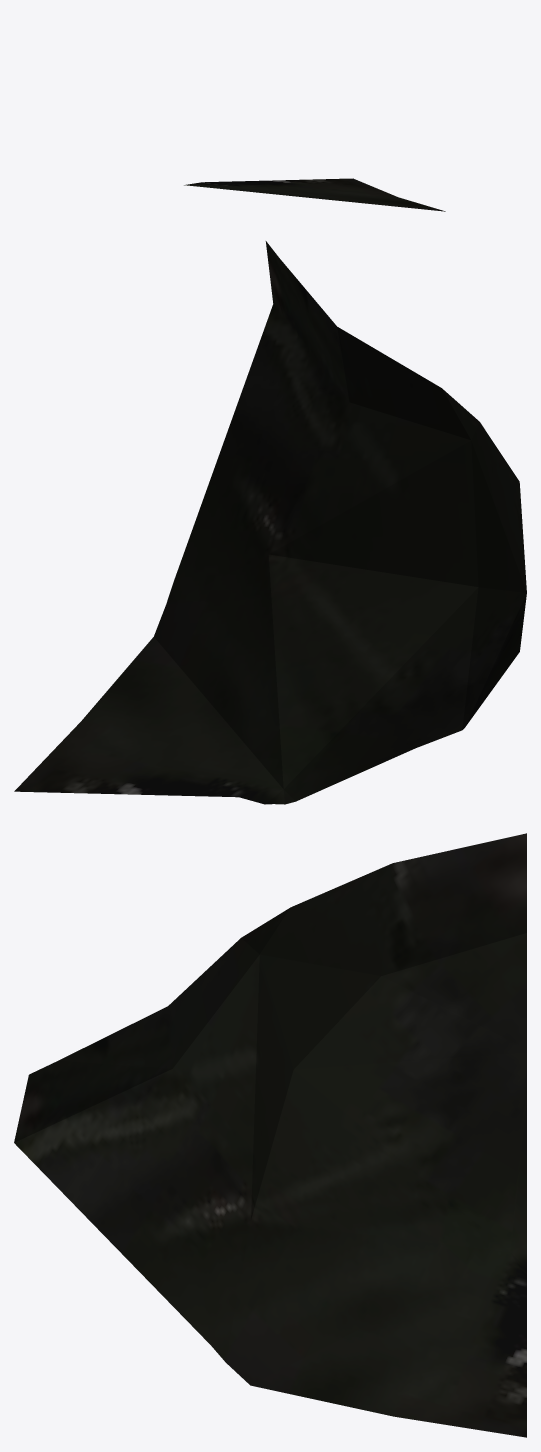
The picture shows the model from 3 angles, top to bottom: view 1: azimuth 30°, elevation 25°; view 2: azimuth 150°, elevation 25°; view 3: azimuth 270°, elevation 25°; orthographic projection. The views are drawn at different scales.
Size of the model in its own units: 0.3859 by 0.2675 by 0.3426.
1 material, 1 textured.
